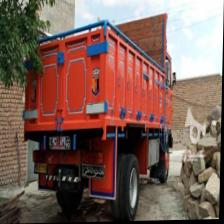plate: (34, 163, 47, 174)
